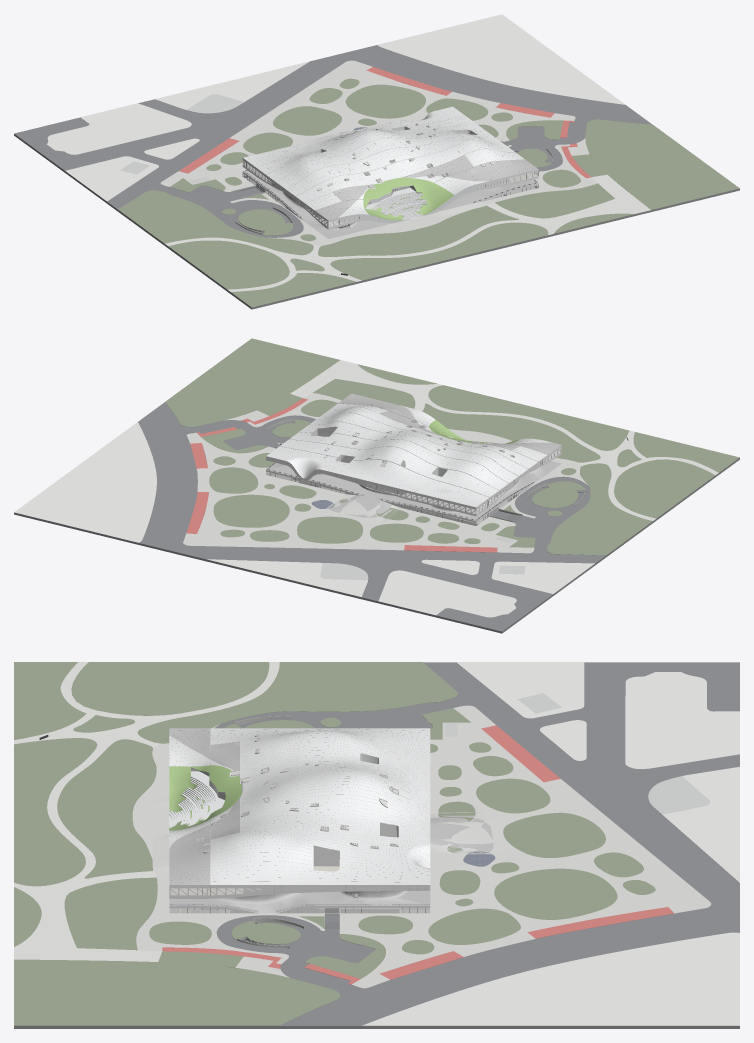
File: nkca_lite.glb
3 renders of one model, top to bottom at view 1: azimuth 30°, elevation 25°; view 2: azimuth 150°, elevation 25°; view 3: azimuth 270°, elevation 25°, orthographic. The views are drawn at different scales.
Visible parts, largest first — view 1: Site_Grass, Site_Road_Base, Site_City_Blocks, Roof_Main, Site_Campus_Paving, Site_Sidewalk, Site_Park_Paving, Roof_South, Site_Moto_Parking, Plaza_Ground, Roof_Main_M16, Site_MRT (+4 smaller); view 2: Site_Grass, Site_Road_Base, Site_City_Blocks, Roof_Main, Site_Campus_Paving, Site_Sidewalk, Plaza_Ground, Site_Moto_Parking, Site_Park_Paving, North_Fascia, Site_MRT, Roof_South (+4 smaller); view 3: Site_Grass, Site_Road_Base, Site_City_Blocks, Roof_Main, Site_Campus_Paving, Site_Sidewalk, Site_Park_Paving, Site_Moto_Parking, Plaza_Ground, Roof_South, Site_MRT, Roof_Main_M16 (+8 smaller).
Part boxes in pixels (x1,y1,x2,y2): Site_Grass: (118, 78, 739, 307); Site_Road_Base: (14, 45, 739, 309); Site_City_Blocks: (46, 14, 625, 201); Roof_Main: (243, 106, 524, 210); Site_Campus_Paving: (160, 60, 575, 192); Site_Sidewalk: (165, 174, 650, 291); Site_Park_Paving: (230, 138, 597, 245); Roof_South: (338, 176, 490, 220); Site_Moto_Parking: (179, 67, 591, 178); Plaza_Ground: (243, 126, 537, 238); Roof_Main_M16: (447, 159, 537, 181); Site_MRT: (120, 94, 243, 183); Site_Grass: (165, 338, 739, 555); Site_Road_Base: (14, 402, 739, 633); Site_City_Blocks: (14, 422, 594, 617); Roof_Main: (266, 403, 547, 507); Site_Campus_Paving: (183, 432, 534, 553); Site_Sidewalk: (290, 360, 718, 520); Plaza_Ground: (267, 461, 561, 520); Site_Moto_Parking: (186, 398, 497, 552); Site_Park_Paving: (225, 392, 588, 518); North_Fascia: (266, 456, 476, 515); Site_MRT: (320, 536, 525, 580); Roof_South: (400, 405, 551, 443); Site_Grass: (14, 662, 655, 1025); Site_Road_Base: (14, 662, 739, 1028); Site_City_Blocks: (362, 662, 739, 1025); Roof_Main: (210, 728, 430, 884); Site_Campus_Paving: (339, 705, 711, 988); Site_Sidewalk: (14, 662, 279, 961); Site_Park_Paving: (132, 724, 324, 977); Site_Moto_Parking: (162, 725, 673, 984); Plaza_Ground: (169, 891, 430, 913); Roof_South: (169, 736, 241, 848); Site_MRT: (444, 693, 710, 814); Roof_Main_M16: (169, 823, 210, 884).
Bounding box in the file's own units: 517 × 46.78 × 436.
